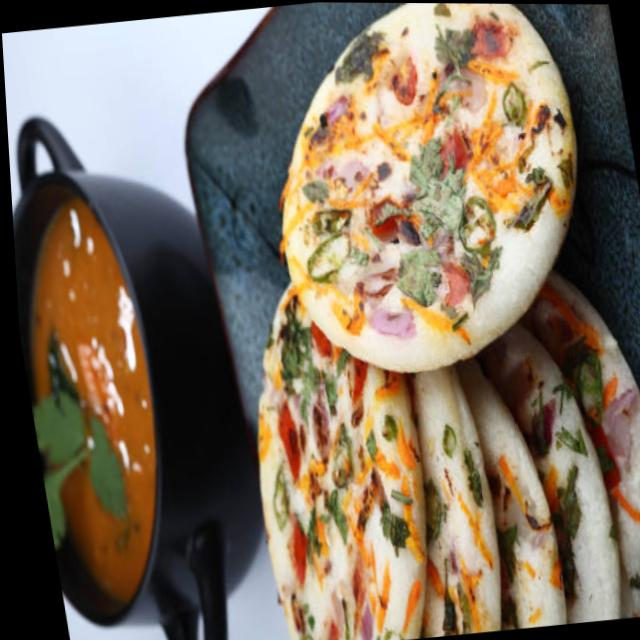DOSA: (254, 3, 640, 640)
SAMBAR: (29, 189, 155, 600)
